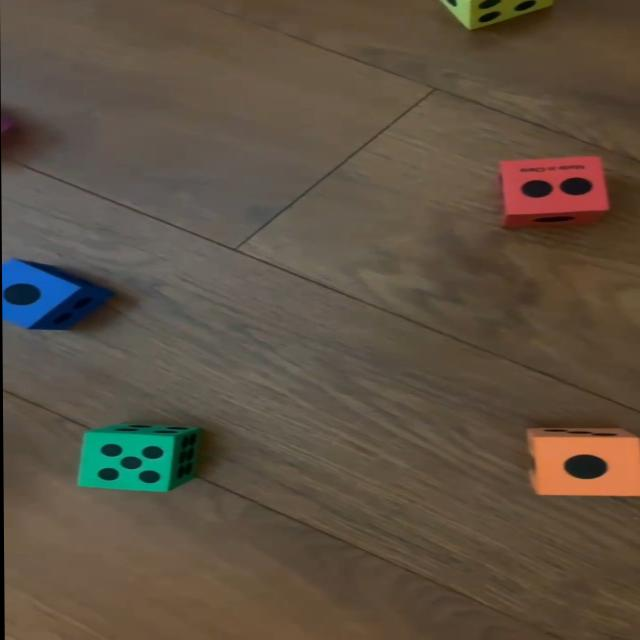cube: (76, 422, 201, 492), (498, 156, 608, 226), (2, 260, 113, 328)
